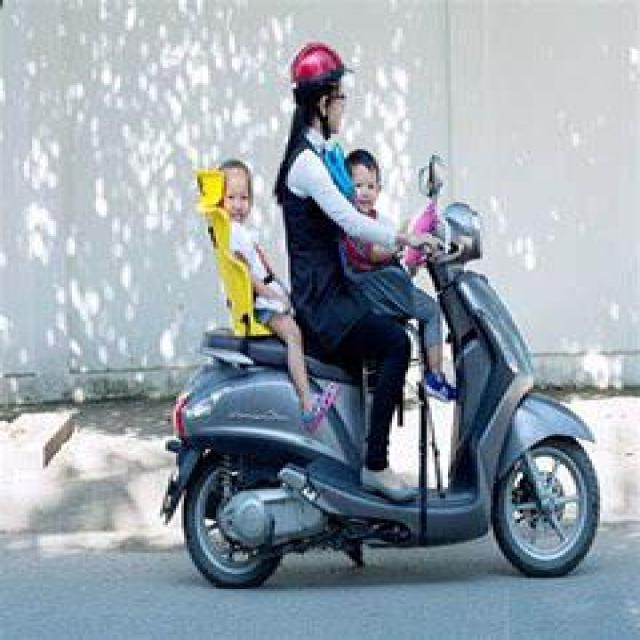motorcycle: (124, 150, 615, 596)
